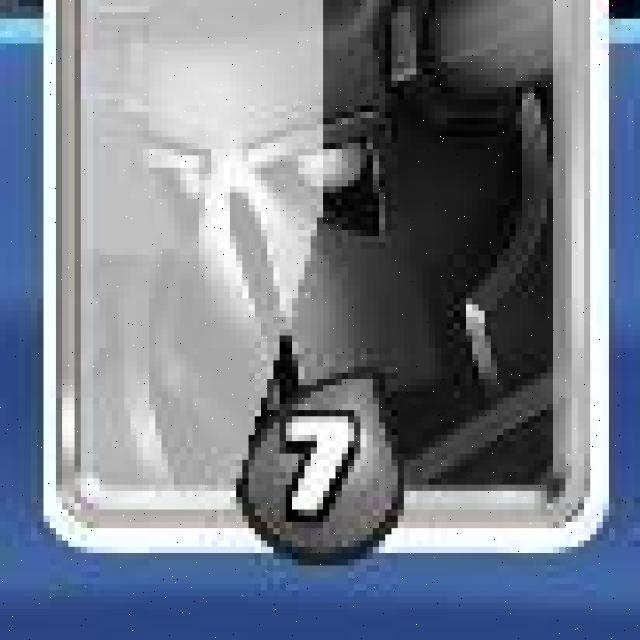Pekka: (40, 0, 606, 553)
